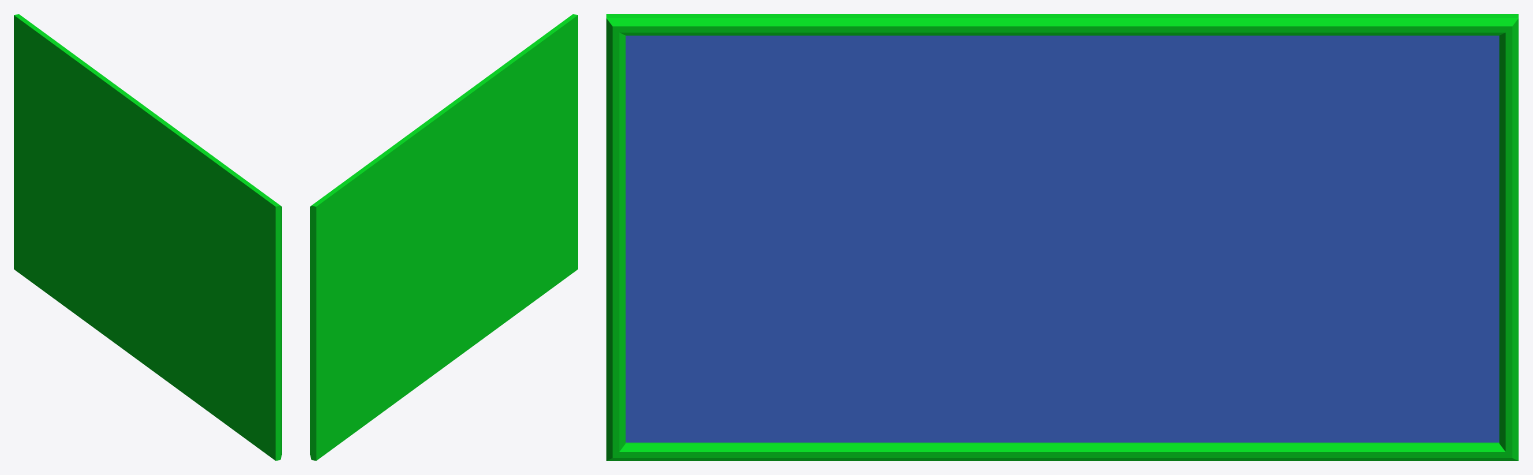
File: office peg board.fbx
3 views of the same model, side by side, from view 1: azimuth 30°, elevation 25°; view 2: azimuth 150°, elevation 25°; view 3: azimuth 270°, elevation 25° (orthographic). The views are drawn at different scales.
Parts seen in each view (by area): view 1: Cube; view 2: Cube; view 3: Cube.
Part boxes in pixels (<box>): Cube: <box>14,14,281,460</box>; Cube: <box>310,14,577,460</box>; Cube: <box>606,14,1518,460</box>.
Size of the model in its own units: 1.48 by 45 by 84.
